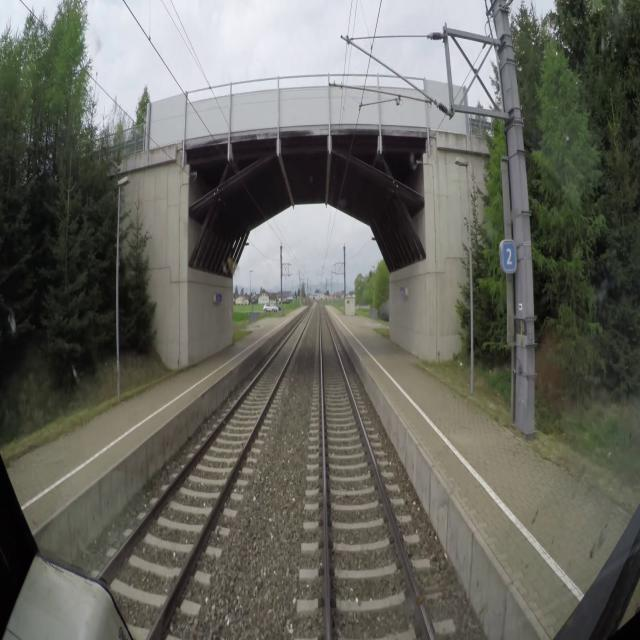rail-track: (103, 310, 311, 639), (320, 305, 429, 639)
